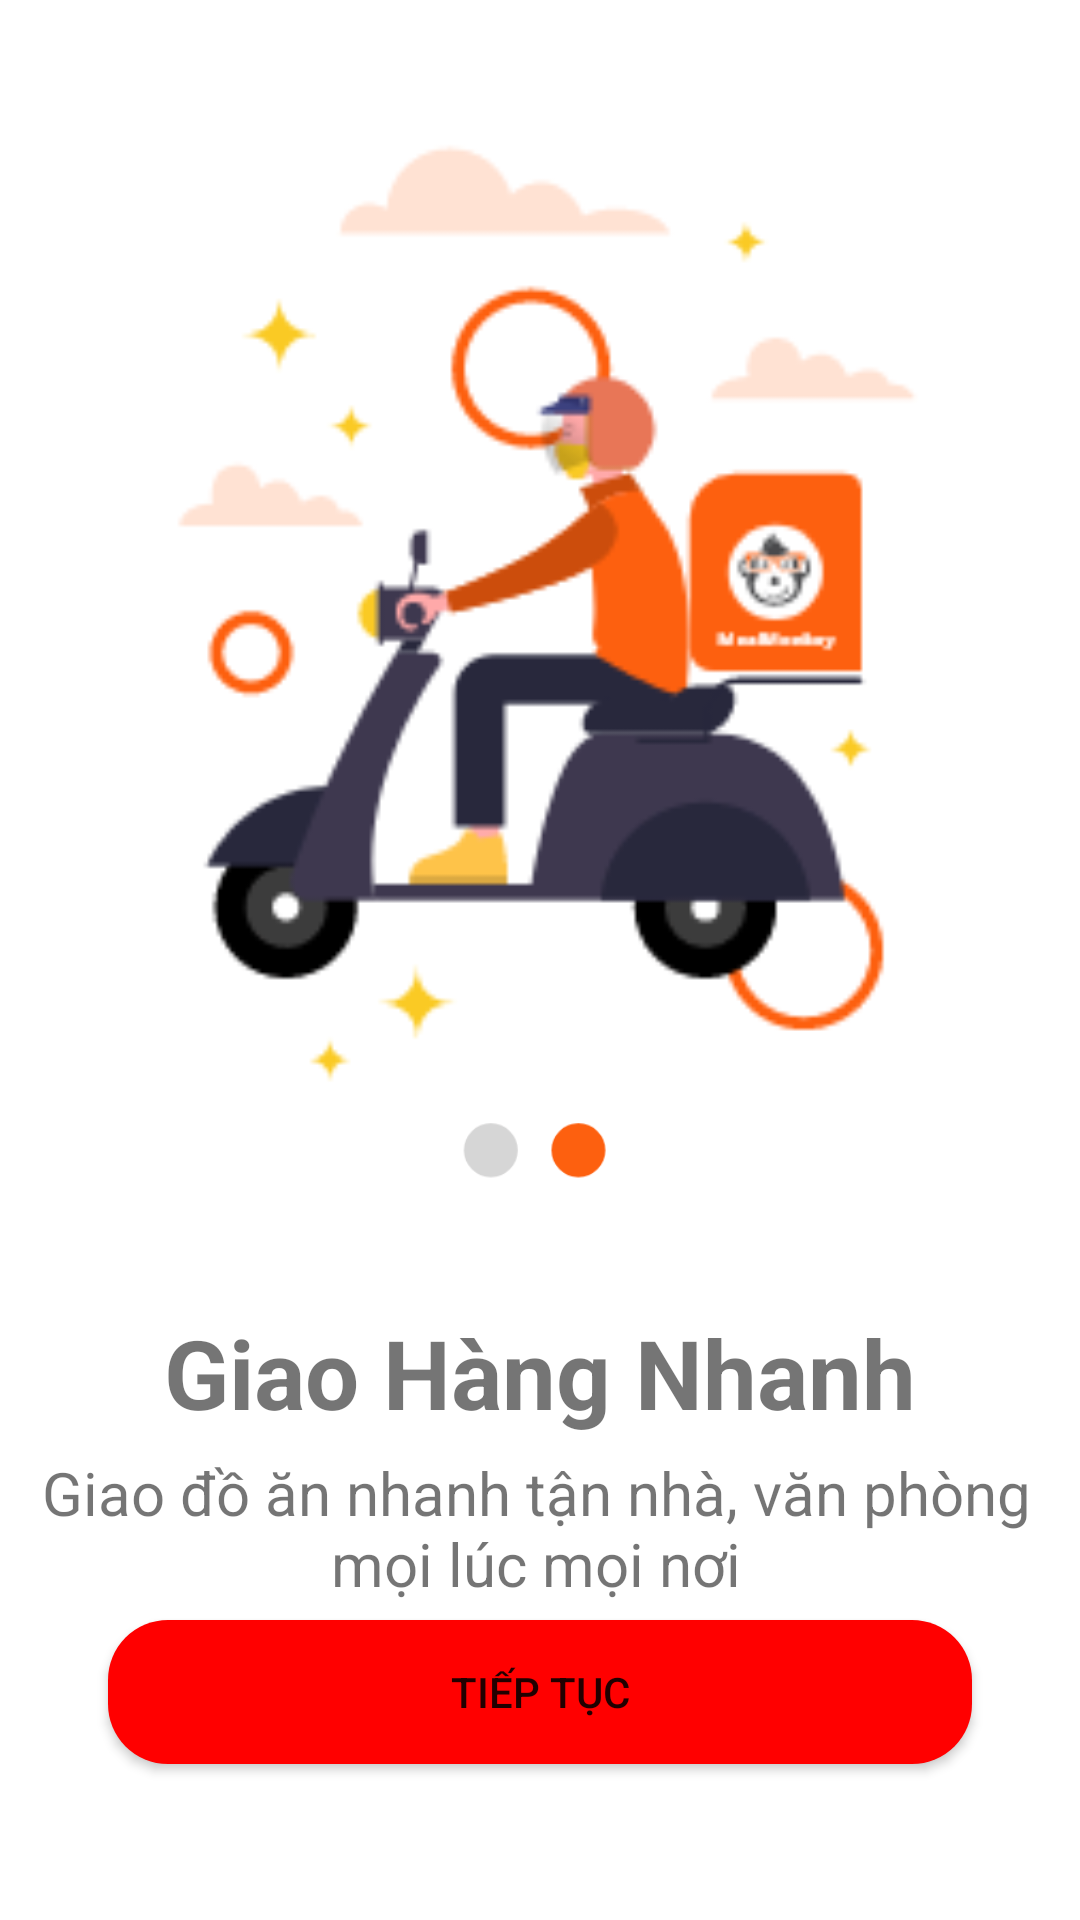

Point at icon controls on the screen. Image size 1080*1920, points as point (x, y).
dot: point (535, 1150)
